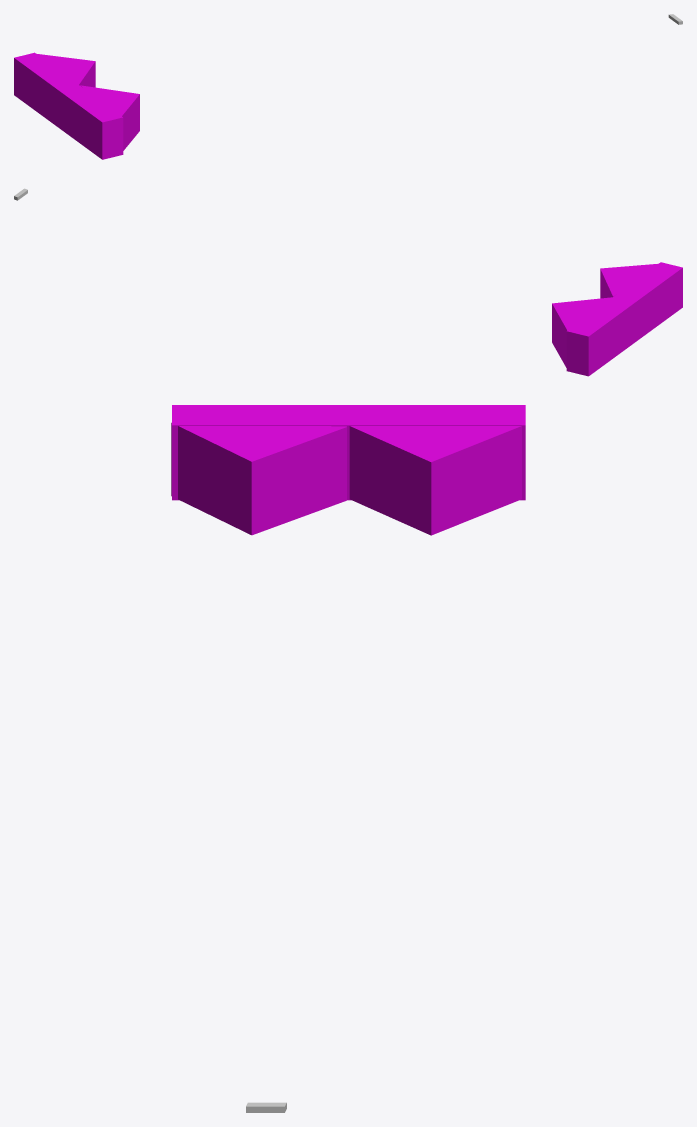
Rendered from Rune4NoStoneMapped.fbx.
The picture shows the model from 3 angles, top to bottom: view 1: azimuth 30°, elevation 25°; view 2: azimuth 150°, elevation 25°; view 3: azimuth 270°, elevation 25°; orthographic projection. The views are drawn at different scales.
Parts seen in each view (by area): view 1: Cube.003, Cube.002, Cube.001; view 2: Cube.003, Cube.001, Cube.002; view 3: Cube.001, Cube.002, Cube.003.
Part boxes in pixels (left/top/right/bottom): Cube.003: left=14, top=52, right=123, bottom=159; Cube.002: left=80, top=85, right=139, bottom=150; Cube.001: left=36, top=53, right=95, bottom=87; Cube.003: left=566, top=262, right=682, bottom=376; Cube.001: left=552, top=297, right=612, bottom=367; Cube.002: left=600, top=263, right=658, bottom=298; Cube.001: left=349, top=426, right=521, bottom=535; Cube.002: left=171, top=422, right=346, bottom=535; Cube.003: left=172, top=405, right=525, bottom=500.
Bounding box in the file's own units: 677 × 66.53 × 173.
